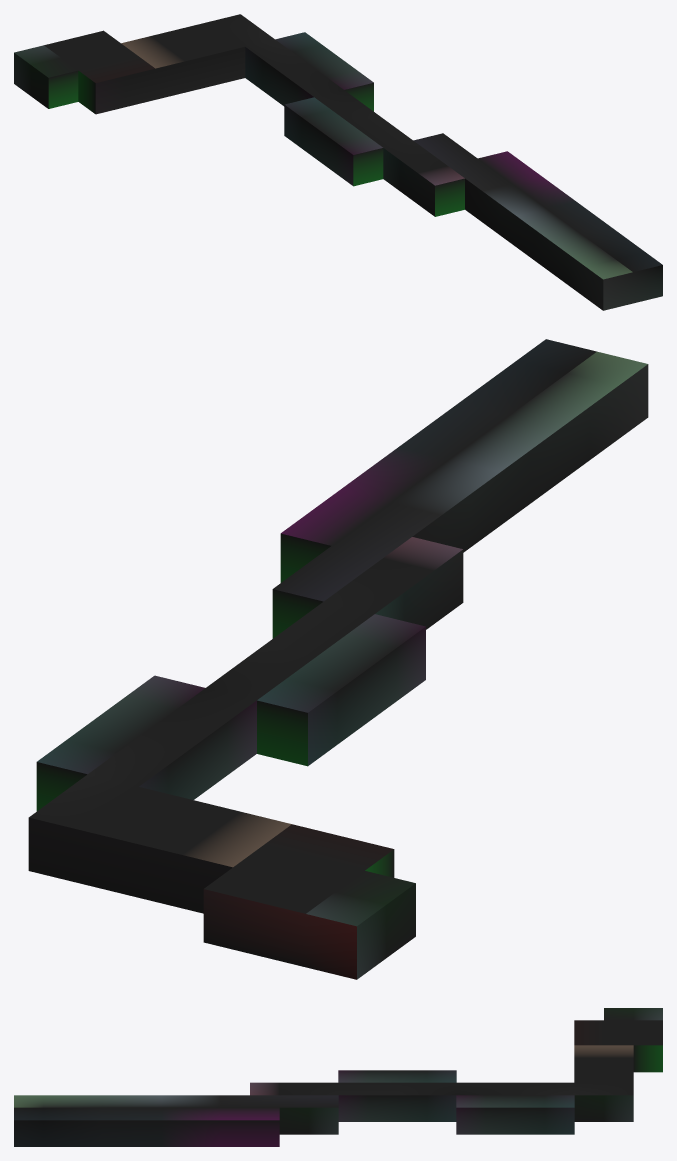
Rendered from Cable_C_00.fbx.
The picture shows the model from 3 angles, top to bottom: view 1: azimuth 30°, elevation 25°; view 2: azimuth 150°, elevation 25°; view 3: azimuth 270°, elevation 25°; orthographic projection. The views are drawn at different scales.
Visible parts, largest first — view 1: Cable_C_00; view 2: Cable_C_00; view 3: Cable_C_00.
Boxes of the visible parts, box(x1,y1,x2,y2) form: Cable_C_00: box(14, 14, 662, 310); Cable_C_00: box(28, 339, 648, 979); Cable_C_00: box(14, 1008, 662, 1146).
Bounding box in the file's own units: 45 × 5 × 110.
